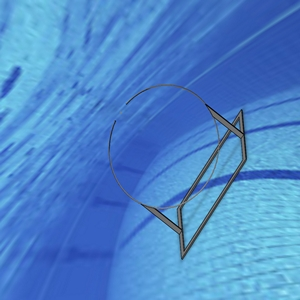circle: (106, 80, 248, 259)
